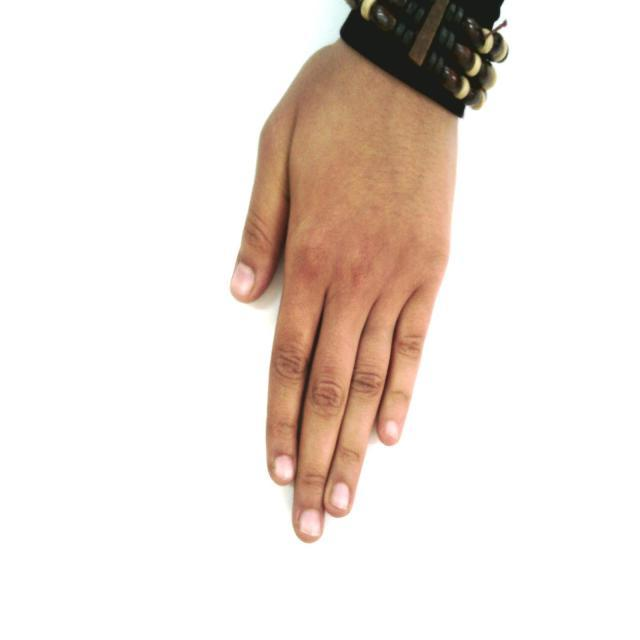Fingernail: (232, 263, 254, 293), (300, 509, 321, 536), (331, 482, 349, 511), (275, 456, 293, 481), (382, 421, 399, 441)
